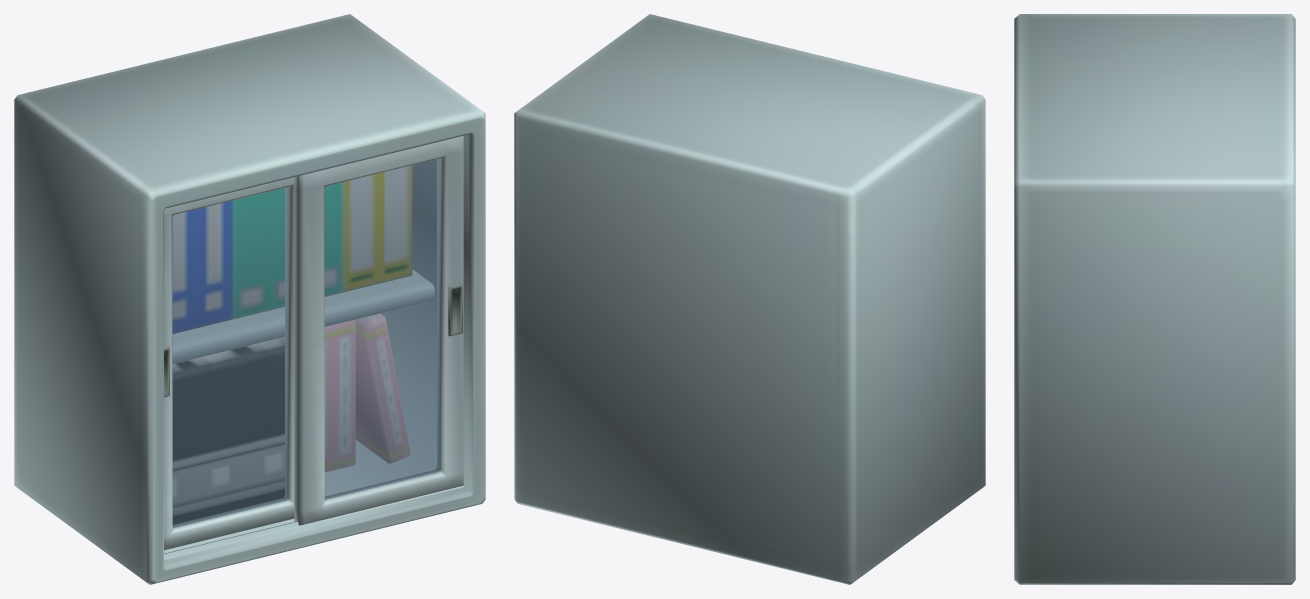
3 views of the same model, side by side, from view 1: azimuth 30°, elevation 25°; view 2: azimuth 150°, elevation 25°; view 3: azimuth 270°, elevation 25° (orthographic). The views are drawn at different scales.
Size of the model in its own units: 8.74 by 9.67 by 6.11.
Materials: 2 (1 with a texture image).
